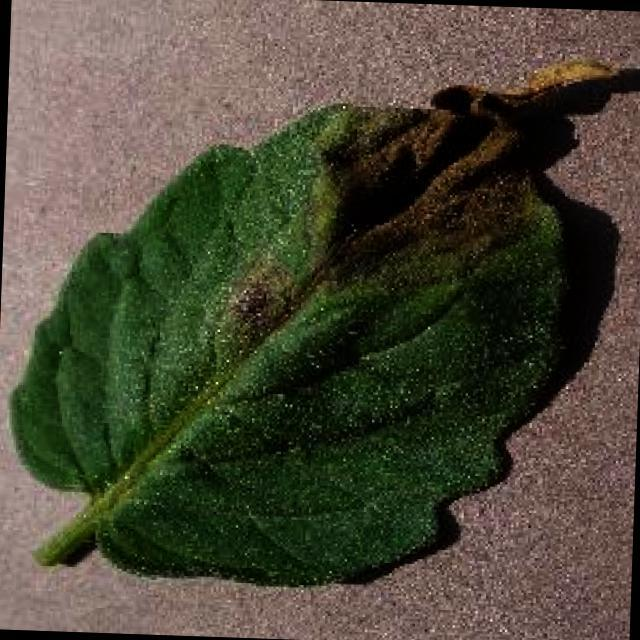Tomato late blight leaf: (4, 41, 640, 599)
